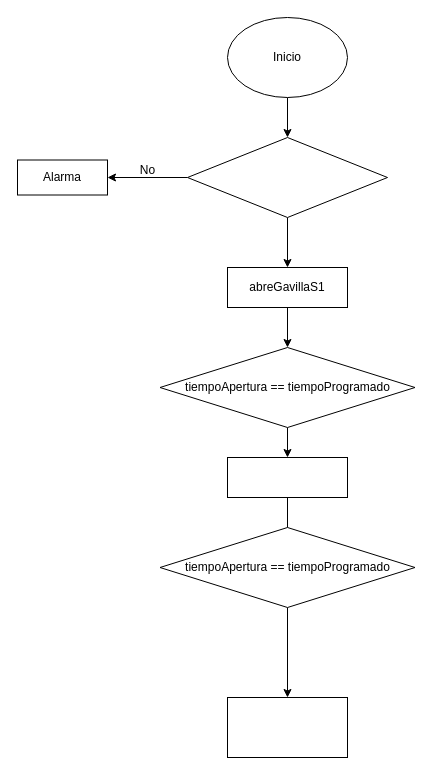
Image size: 433x775. Some labels were removed from this diagram. Each missing label, with the centre of its shape:
abreGavillaS2: the point at 287,477
motorMezcladora: the point at 287,727
sNivelPesoS1=1 & sNivelPeso=2: the point at 287,177
